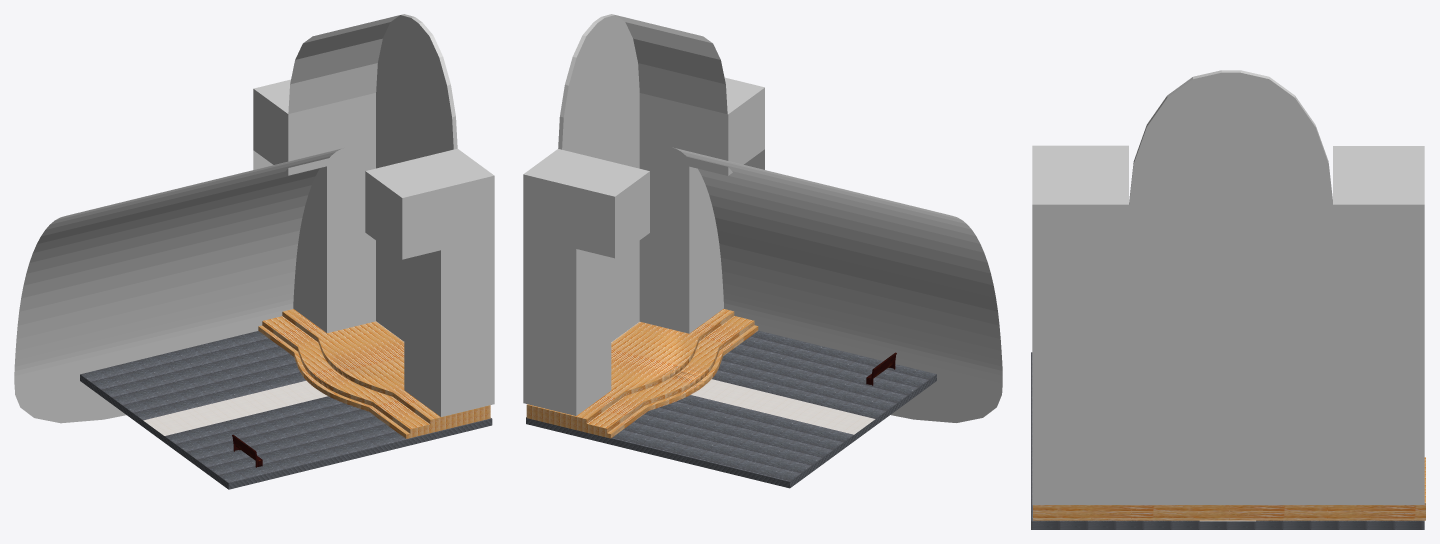
The model's file is PARTEINTERIORIGLESIAprueba.glb.
The picture shows the model from 3 angles, left to right: view 1: azimuth 30°, elevation 25°; view 2: azimuth 150°, elevation 25°; view 3: azimuth 270°, elevation 25°; orthographic projection. The views are drawn at different scales.
Parts seen in each view (by area): view 1: Cube.003, Plane, Cube.001, Cube.002; view 2: Cube.003, Plane, Cube.001, Cube.002; view 3: Cube.003, Cube.002, Cube.001.
Boxes of the visible parts, x1,y1,x2,y2 form: Cube.003: [253, 14, 494, 416]; Plane: [14, 148, 343, 423]; Cube.001: [80, 331, 492, 489]; Cube.002: [258, 309, 490, 438]; Cube.003: [523, 14, 764, 415]; Plane: [673, 147, 1002, 422]; Cube.001: [526, 330, 936, 488]; Cube.002: [526, 309, 758, 438]; Cube.003: [1032, 70, 1424, 504]; Cube.002: [1033, 457, 1425, 520]; Cube.001: [1031, 352, 1424, 529].
Bounding box in the file's own units: 105 × 120 × 82.21.
4 materials, 4 textured.
